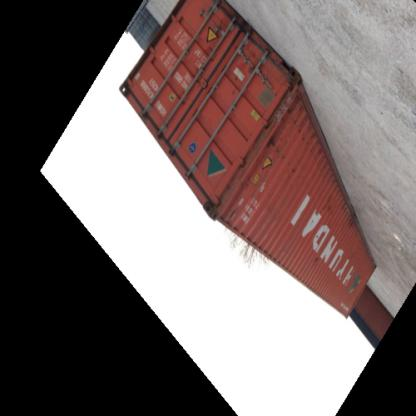Damage: (265, 138, 301, 188), (280, 102, 314, 152), (312, 194, 332, 226), (340, 212, 358, 235), (225, 208, 243, 224), (310, 254, 326, 272)
